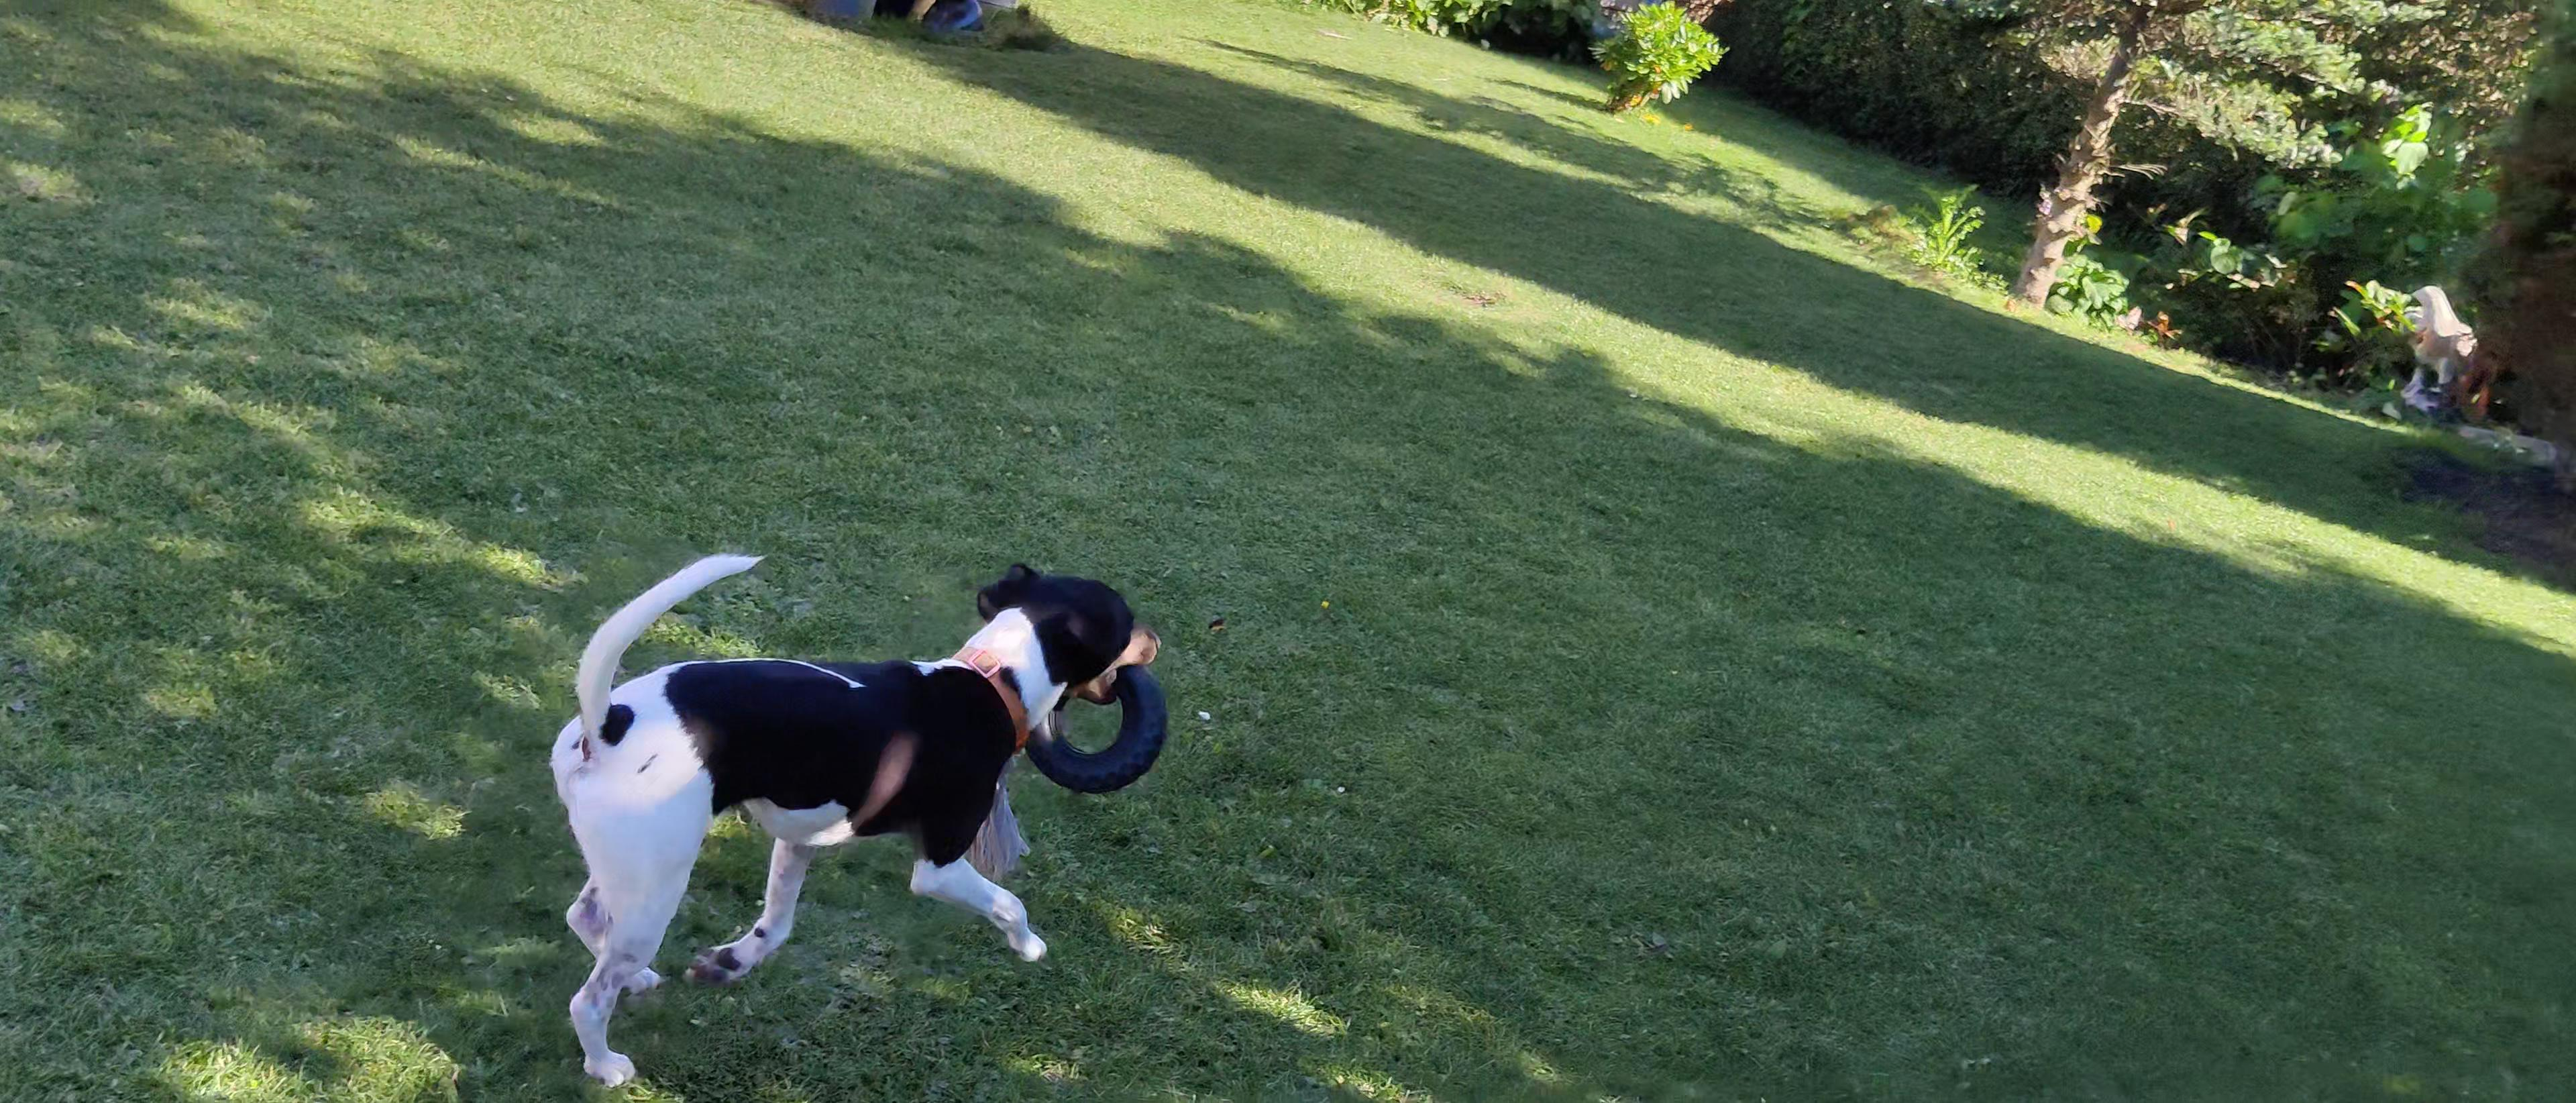Dog: (524, 542, 1168, 1087)
